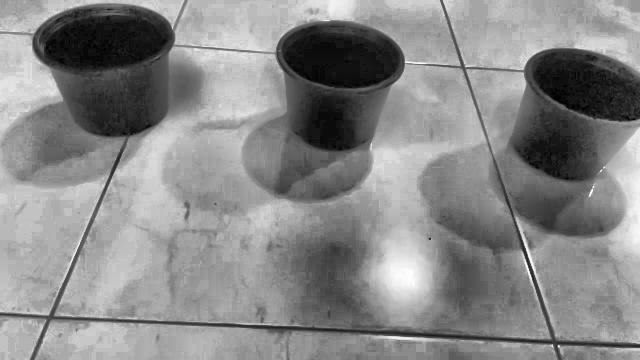pot: (32, 4, 174, 136), (510, 48, 640, 181), (276, 20, 404, 150)
